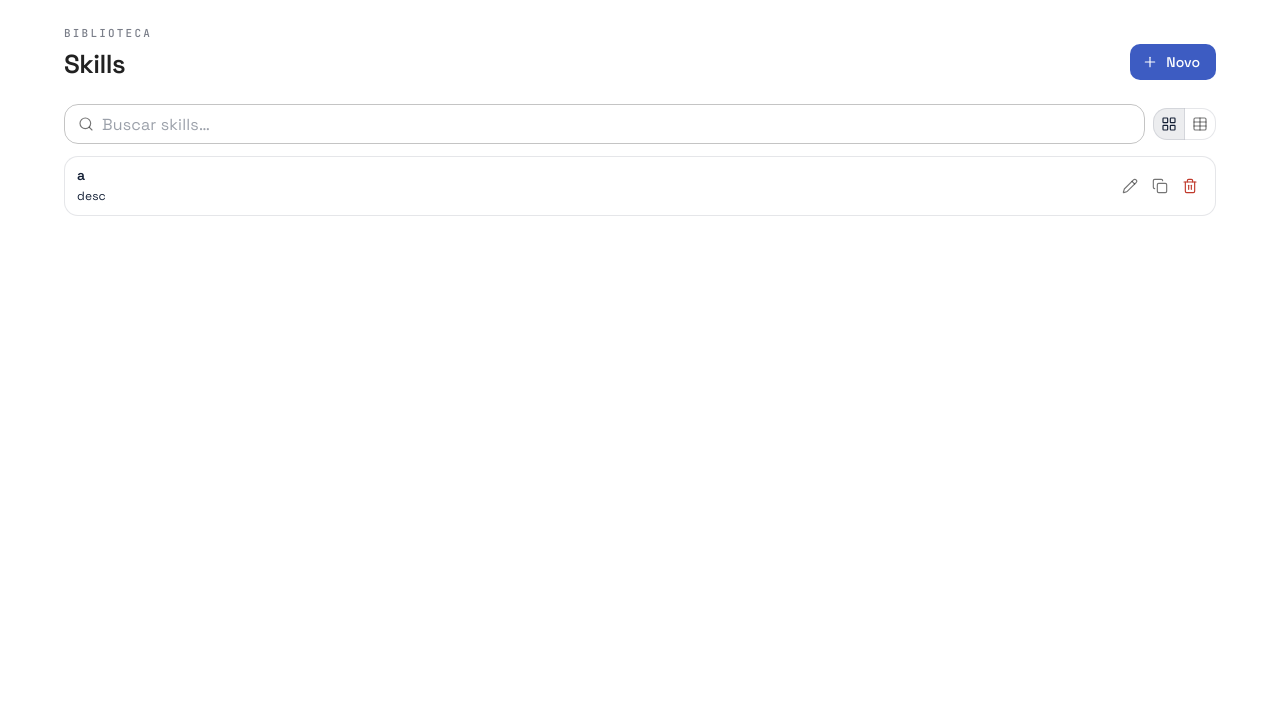
<CustomizationListScreen> › closes the drawer and opens the editor when Edit is clicked inside the drawer for a workspace item
The width and height of the screenshot is (1280, 720).
Click the element with test id "entity-grid-card-skill-workspace/urn:skill:a": (640,186) [64,156,1216,216]
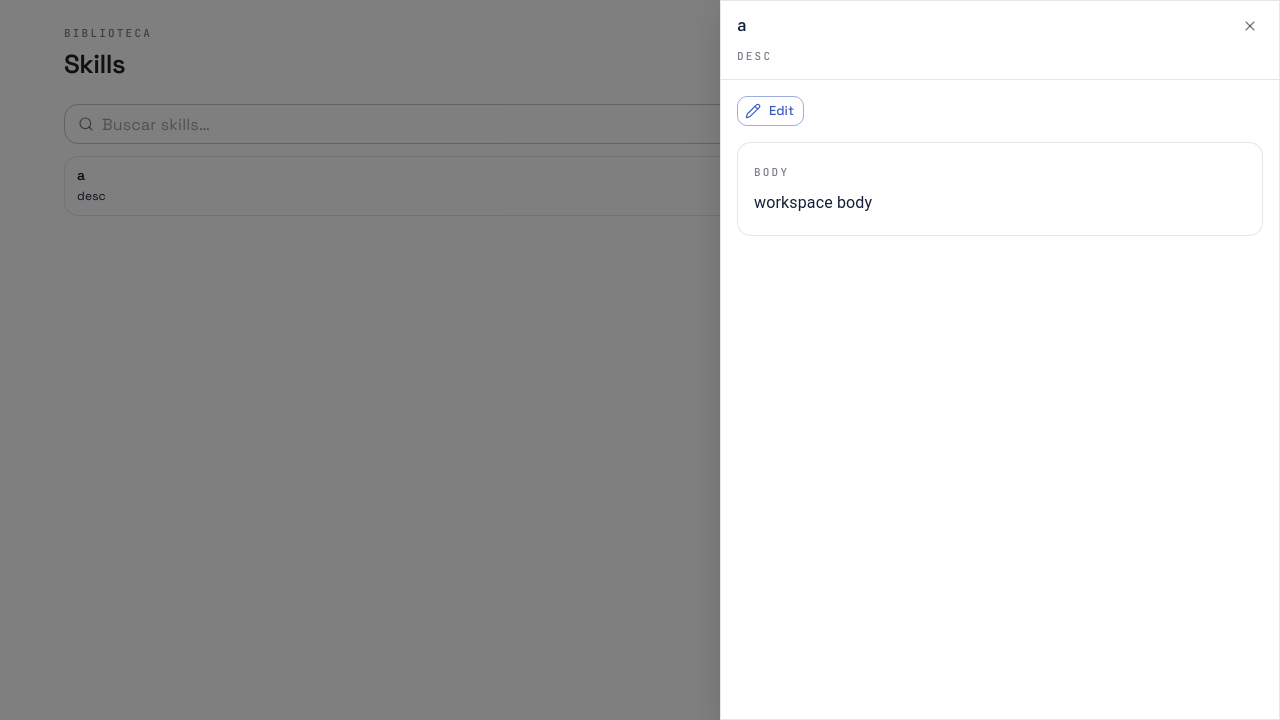
Click the button "Edit": (770,111) [737,96,804,126]
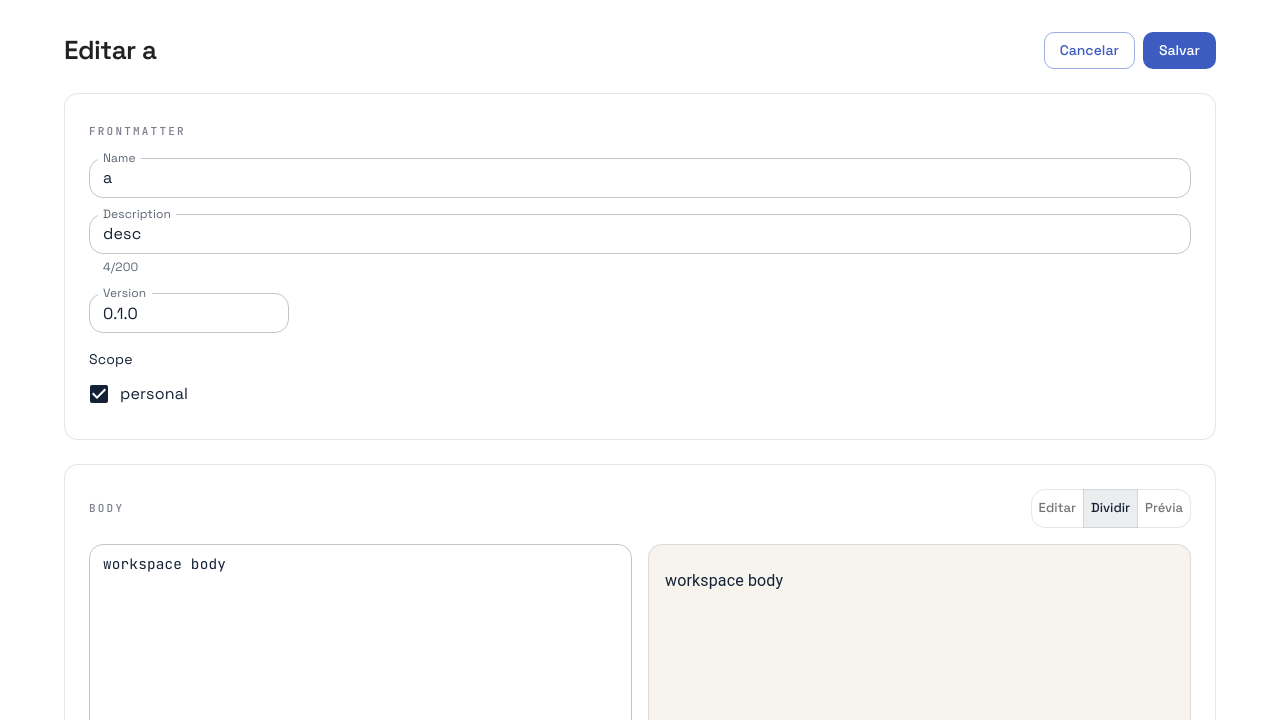
Expected: the dialog with test id "detail-drawer-customization" is gone
Expected: the element with test id "entity-list-skill" is gone
